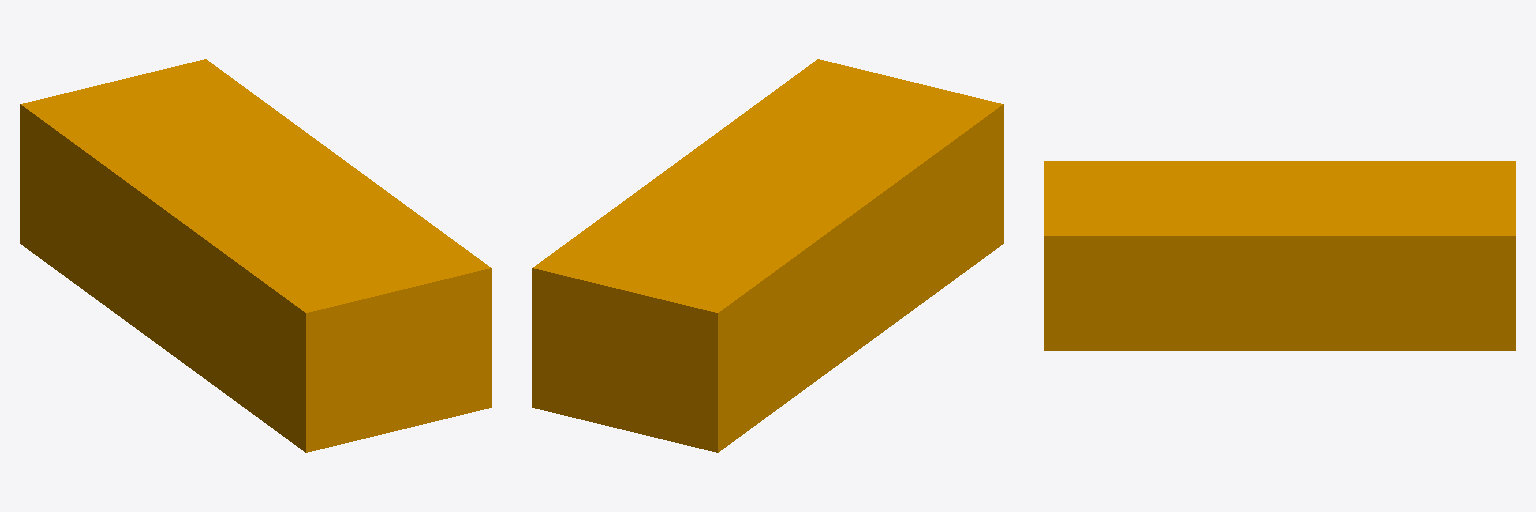
The robot description file, URDF, robot "simple_box":
<robot name="simple_box">
  <link name="my_box">
    <inertial>
      <origin xyz="0 2 -0.54" />
      <mass value="100" />
      <inertia  ixx="100" ixy="0.0"  ixz="0.0"  iyy="100.0"  iyz="0.0"  izz="100.0" />
    </inertial>
    <visual>
      <origin xyz="0 2 -0.54" />
      <geometry>
        <box size="1.5 4 1.08" />
      </geometry>
    </visual>
    <collision>
      <origin xyz="0 2 -0.54" />
      <geometry>
        <box size="1.5 4 1.08" />
      </geometry>
    </collision>
  </link>
  <gazebo reference="my_box">
    <material>Gazebo/Grey</material>
  </gazebo>
</robot>

--- Facts derived from the render (not from the file) ---
The picture shows the robot from 3 angles, left to right: view 1: azimuth 30°, elevation 25°; view 2: azimuth 150°, elevation 25°; view 3: azimuth 270°, elevation 25°; orthographic projection.
Robot: simple_box — 1 links, 0 joints (none); root link my_box; default pose: every joint at zero.
Visible links, largest first — view 1: my_box; view 2: my_box; view 3: my_box.
Boxes of the visible links, x1,y1,x2,y2 form: my_box: (20,59,491,452); my_box: (532,59,1003,452); my_box: (1044,161,1515,350).
Size in the robot's own frame: 1.5 by 4 by 1.08 metres.
Geometry: primitives only (box / cylinder / sphere), no mesh files.